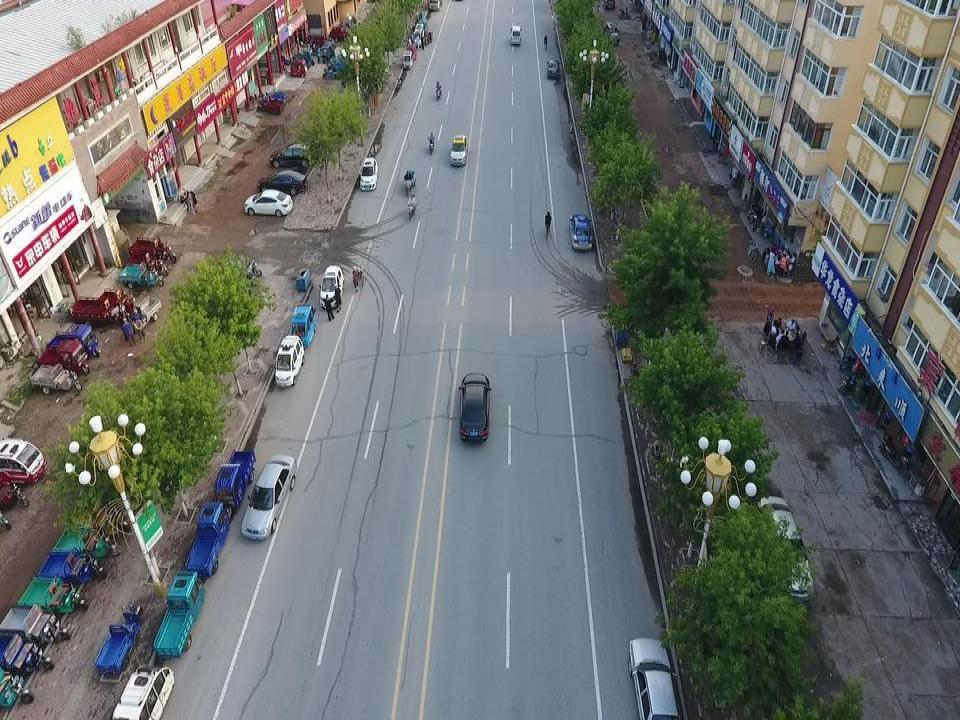car: (754, 492, 815, 603), (239, 450, 299, 542), (627, 634, 683, 720), (456, 371, 493, 445), (273, 333, 305, 388), (255, 168, 309, 196), (243, 188, 294, 217), (268, 140, 317, 167), (318, 264, 345, 308), (568, 213, 593, 251), (358, 156, 379, 191), (448, 133, 469, 167), (602, 21, 621, 47), (546, 57, 561, 79), (602, 0, 616, 11)
van: (110, 664, 176, 720), (509, 24, 522, 45)
